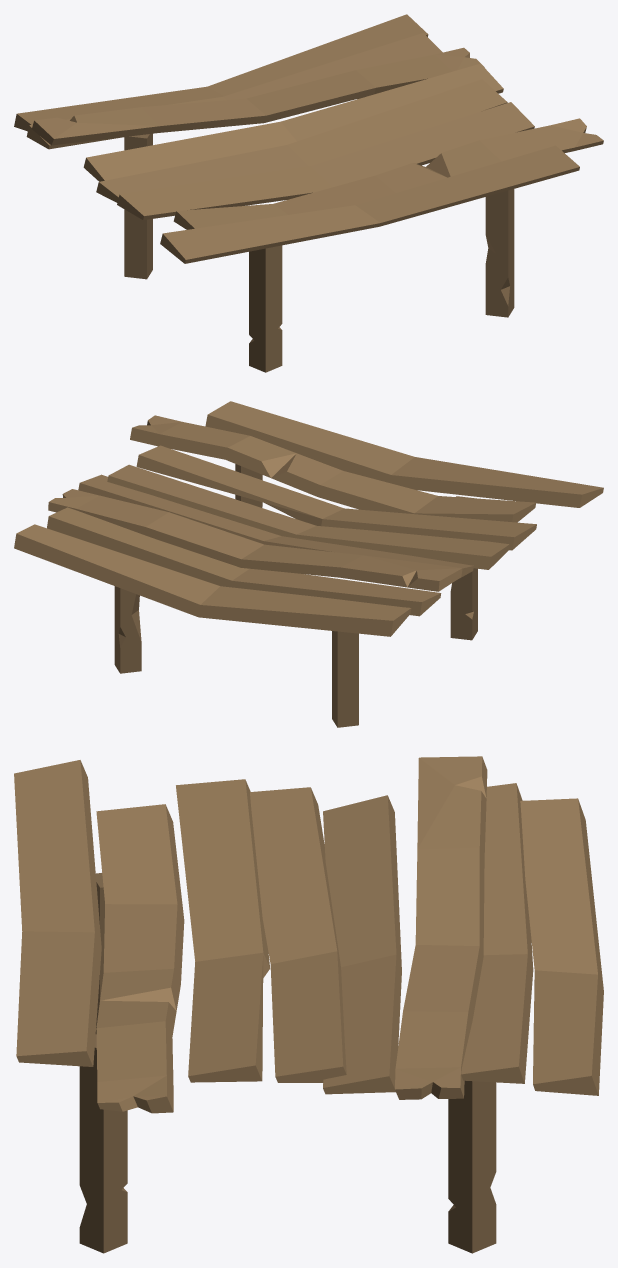
File: SM_Env_Wood_09.fbx
3 renders of one model, top to bottom at view 1: azimuth 30°, elevation 25°; view 2: azimuth 150°, elevation 25°; view 3: azimuth 270°, elevation 25°, orthographic. The views are drawn at different scales.
Visible parts, largest first — view 1: SM_Env_Wood_09; view 2: SM_Env_Wood_09; view 3: SM_Env_Wood_09.
Boxes of the visible parts, x1,y1,x2,y2 form: SM_Env_Wood_09: (14, 14, 603, 372); SM_Env_Wood_09: (14, 401, 603, 727); SM_Env_Wood_09: (14, 756, 603, 1253).
Size of the model in its own units: 217 by 81.61 by 172.
Materials: 1 (1 with a texture image).
